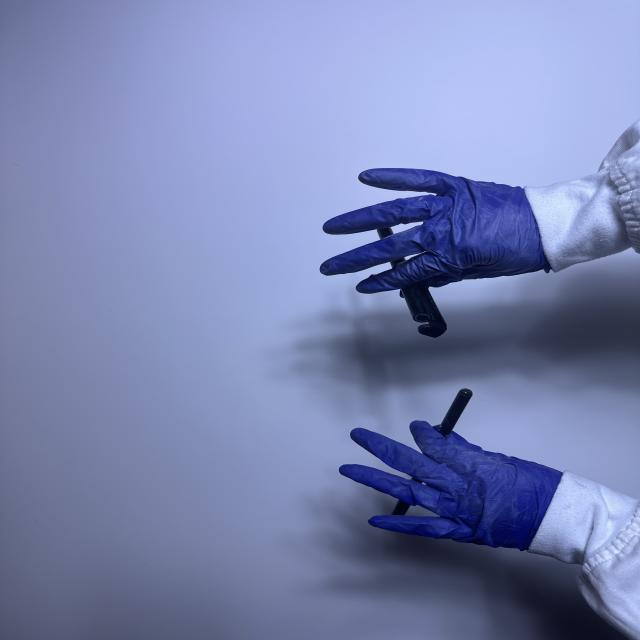gloves_contaminated: (320, 169, 549, 293), (340, 421, 560, 549)
